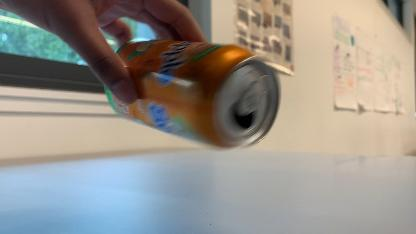Can: (105, 38, 282, 152)
